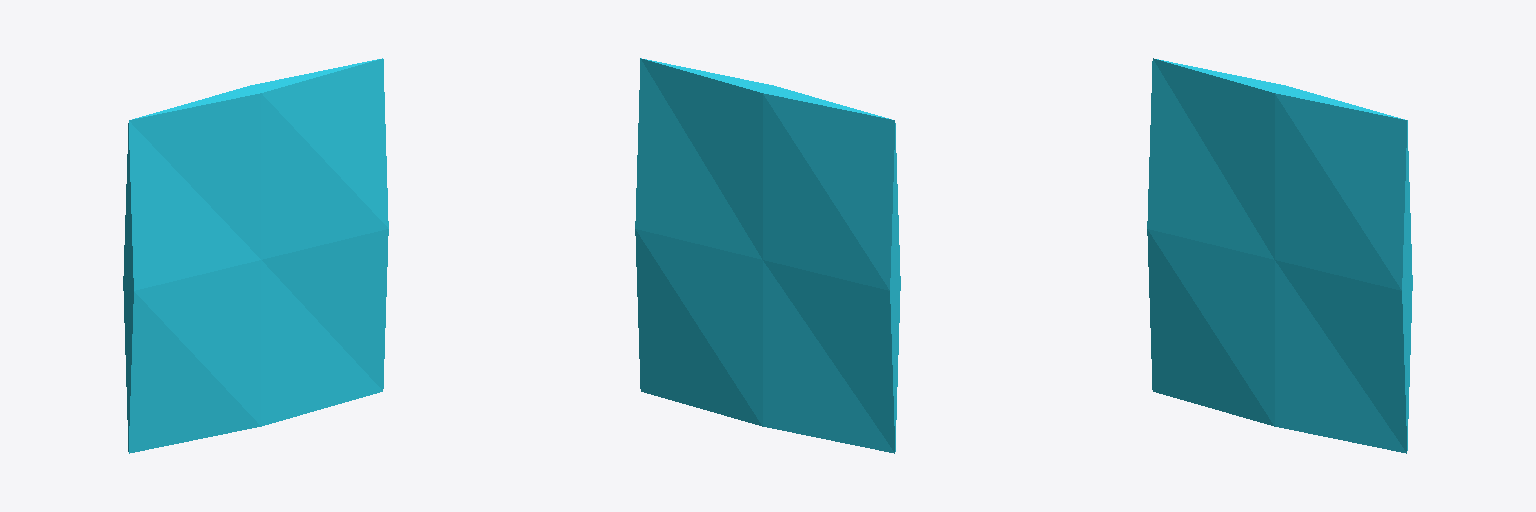
Rendered from Labyrinth3D_PlaneTextured.obj.
The picture shows the model from 3 angles: view 1: azimuth 30°, elevation 25°; view 2: azimuth 150°, elevation 25°; view 3: azimuth 330°, elevation 25°; orthographic projection.
Visible parts, largest first — view 1: Cube_Cube.001; view 2: Cube_Cube.001; view 3: Cube_Cube.001.
Part boxes in pixels (left/top/right/bottom): Cube_Cube.001: left=123, top=58, right=388, bottom=453; Cube_Cube.001: left=635, top=58, right=900, bottom=453; Cube_Cube.001: left=1147, top=58, right=1412, bottom=453.
Bounding box in the file's own units: 2 × 2.5 × 0.145.